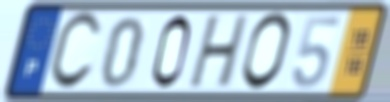0: (99, 14, 149, 89), (151, 12, 192, 91)
5: (291, 13, 343, 90)
C: (45, 9, 104, 94)
H: (185, 12, 253, 91)
O: (239, 10, 294, 93)
